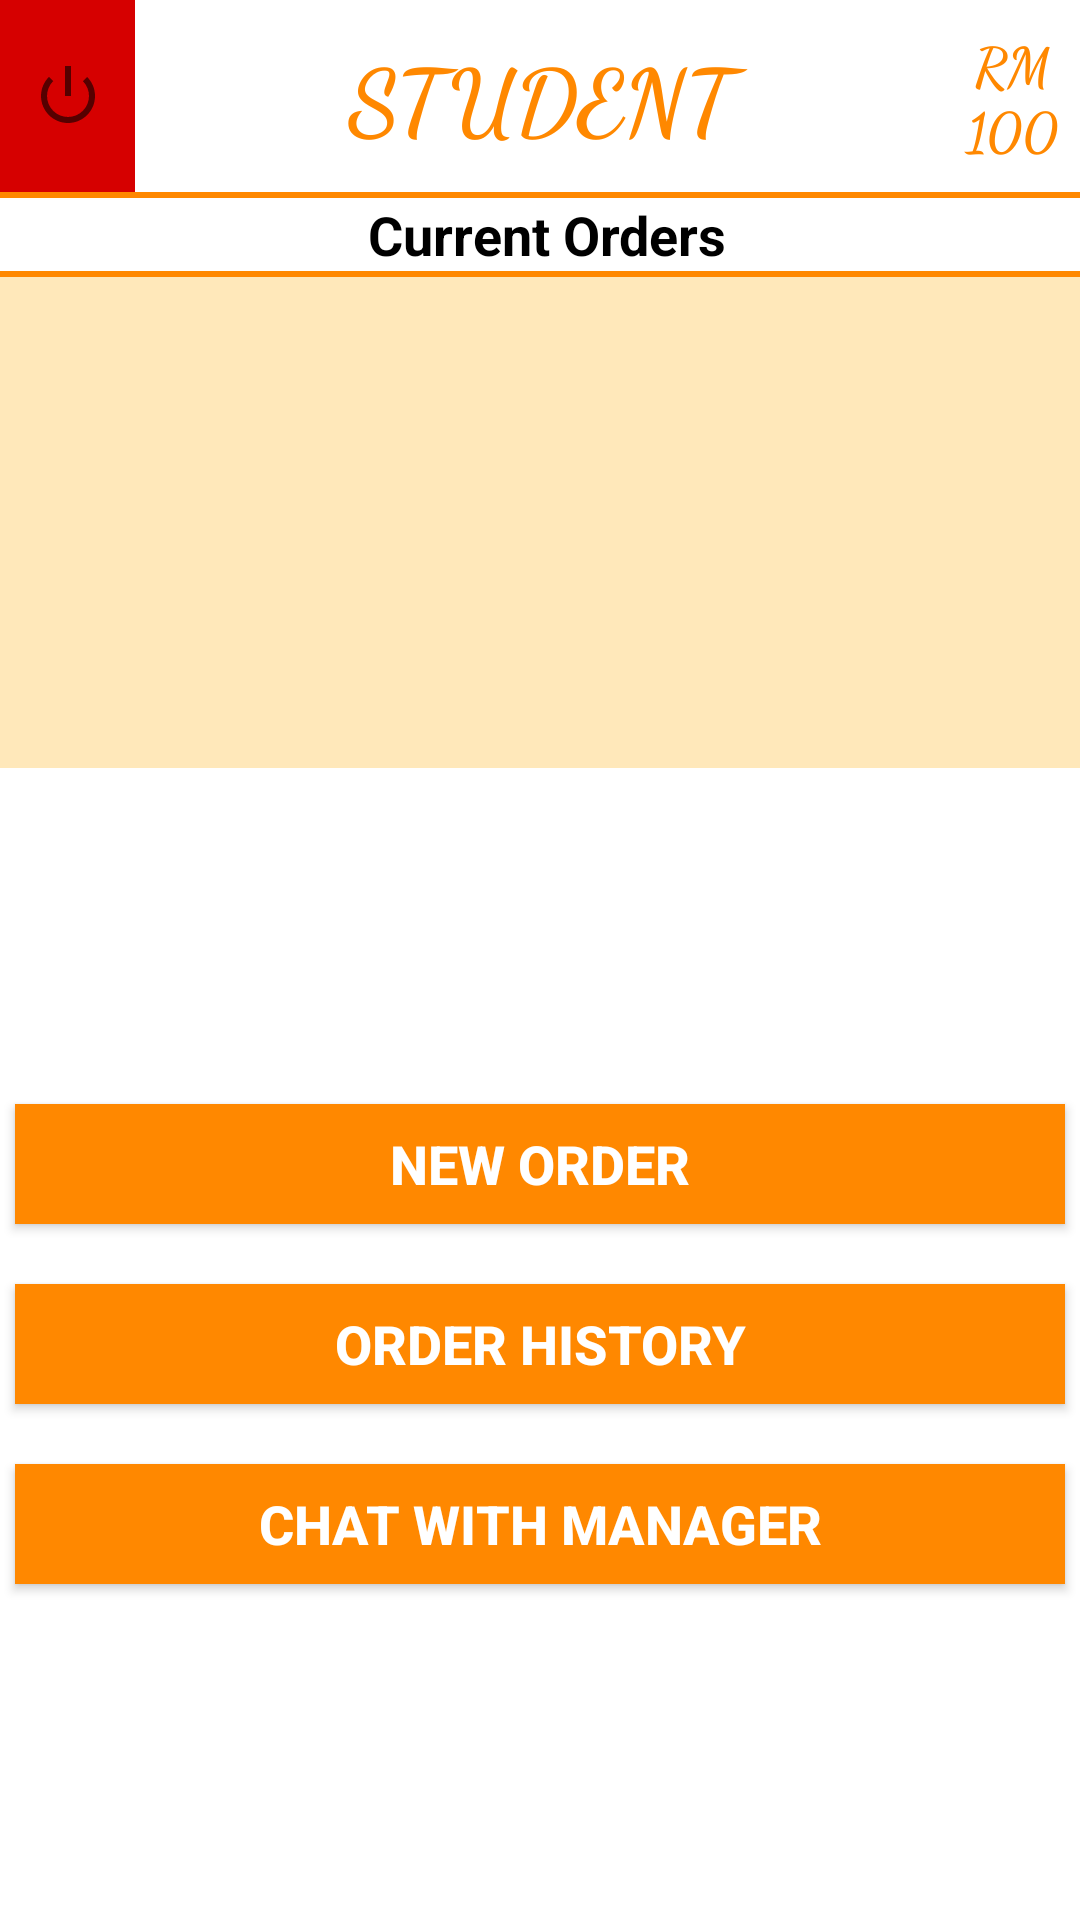

Icons on this 1080x1920 Android screen, each with the point to tap as (x,y):
lock power off: (67,96)
